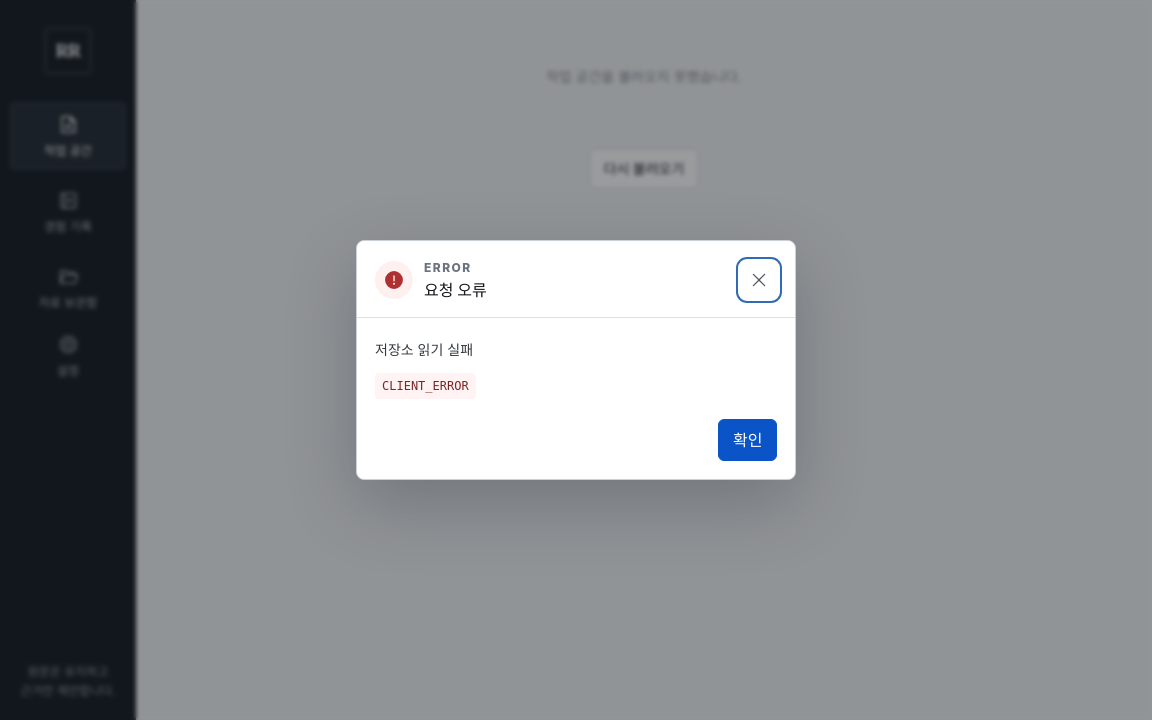
Test case: keeps storage recovery available after dismissing the initial load error
This screenshot has width=1152, height=720.
Check: the dialog "요청 오류" is shown, box 356,240 -> 796,480
What coordinates should you click on to do the following:
click the button named "오류 팝업 닫기"
I would click on:
 (759, 280)
Its box is 741,262 -> 777,298.
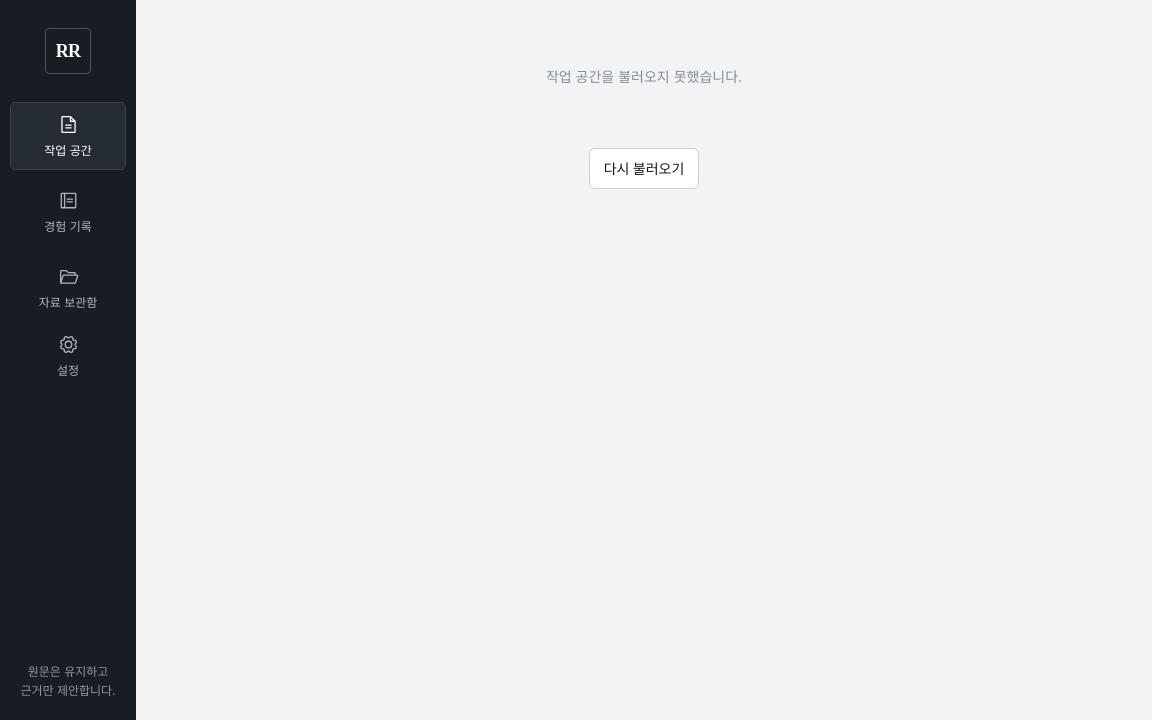
What coordinates should you click on to do the following:
click the button "다시 불러오기"
I would click on:
 (644, 168)
Its box is 589,148 -> 699,189.
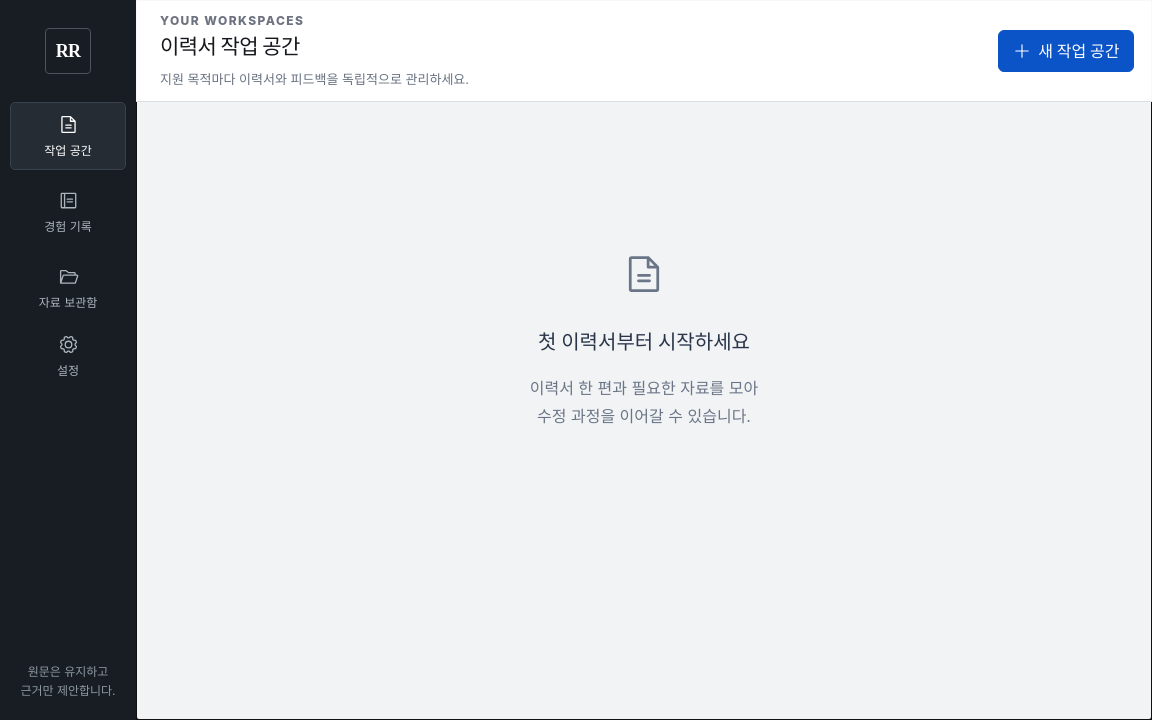
Check: the heading "이력서 작업 공간" is shown, box 160,34 -> 300,59
